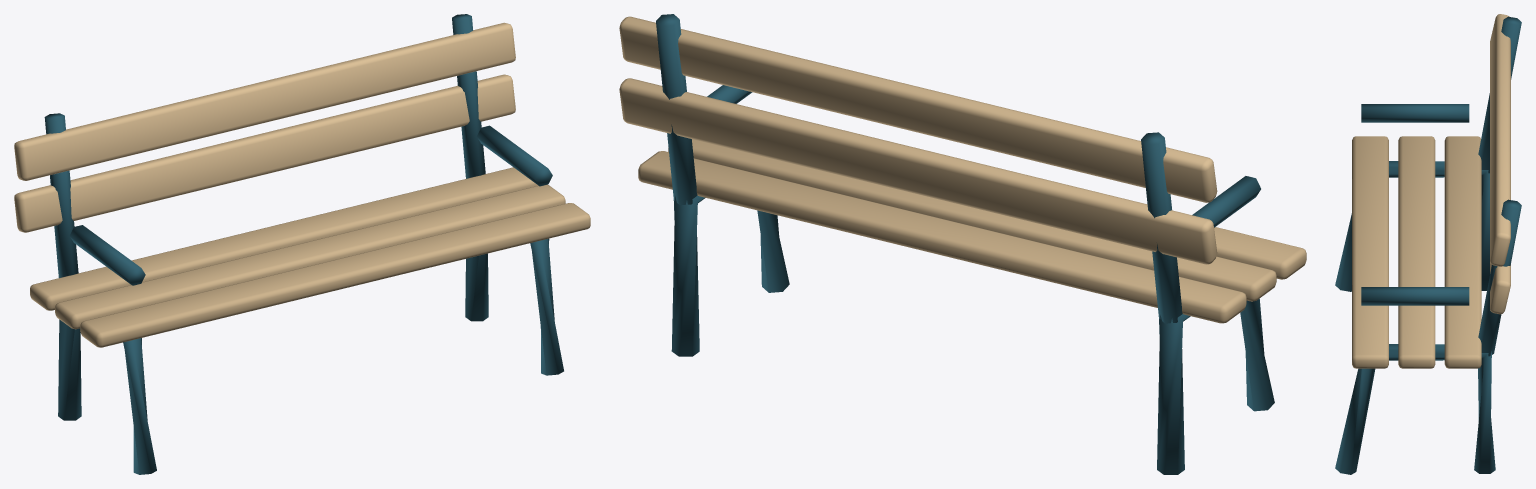
Rendered from park_bench.glb.
3 views of the same model, side by side, from view 1: azimuth 30°, elevation 25°; view 2: azimuth 150°, elevation 25°; view 3: azimuth 270°, elevation 25° (orthographic). The views are drawn at different scales.
Visible parts, largest first — view 1: Park_Bench_Slats, Park_Bench_Legs; view 2: Park_Bench_Slats, Park_Bench_Legs; view 3: Park_Bench_Slats, Park_Bench_Legs.
Boxes of the visible parts, x1,y1,x2,y2 form: Park_Bench_Slats: [14, 22, 590, 347]; Park_Bench_Legs: [44, 14, 563, 474]; Park_Bench_Slats: [619, 16, 1306, 323]; Park_Bench_Legs: [656, 14, 1274, 474]; Park_Bench_Slats: [1352, 14, 1510, 368]; Park_Bench_Legs: [1335, 16, 1521, 474].
Size of the model in its own units: 1.7 by 0.9616 by 0.604.
